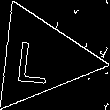L_N: (21, 32, 61, 85)
